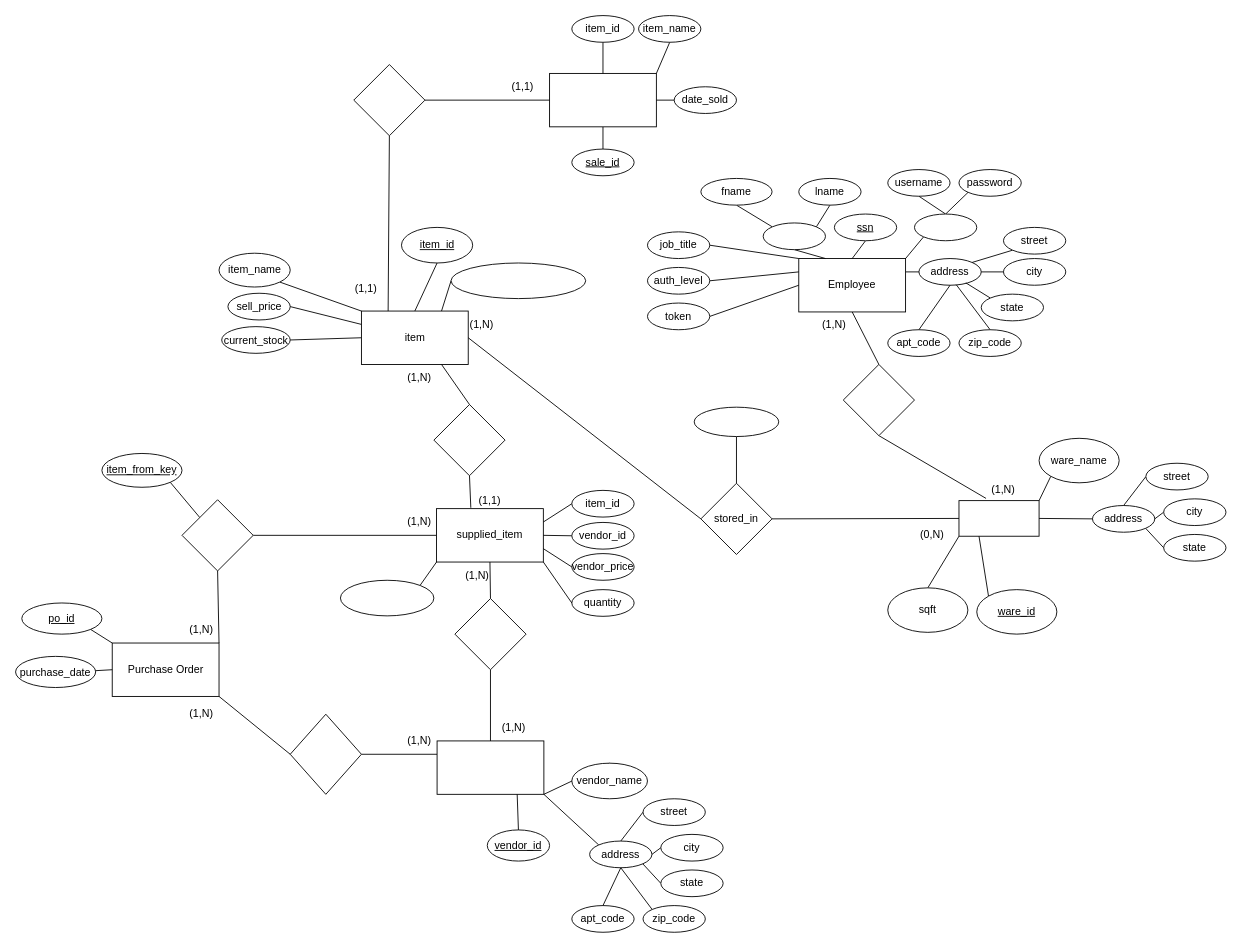
Some shapes in this 1242 by 948 pixel diagram are drawn without their labels. The shapes that lost their labels are listed below. From the top down, each one's box as (x1, y1, x2, y2) in pixels, then its label:
(353, 64, 425, 136): item_sold
(549, 73, 656, 127): sales_record
(762, 222, 825, 250): name
(914, 213, 977, 241): login
(450, 262, 586, 299): minimum_stock_level
(842, 364, 914, 436): works_at
(433, 404, 505, 476): is
(693, 406, 779, 437): stock_in_ware
(181, 499, 253, 571): item from
(958, 500, 1039, 536): Warehouse
(340, 579, 434, 616): supplied_item_id
(454, 598, 526, 670): supplies
(289, 713, 361, 794): purchased from
(436, 740, 544, 794): Vendor
